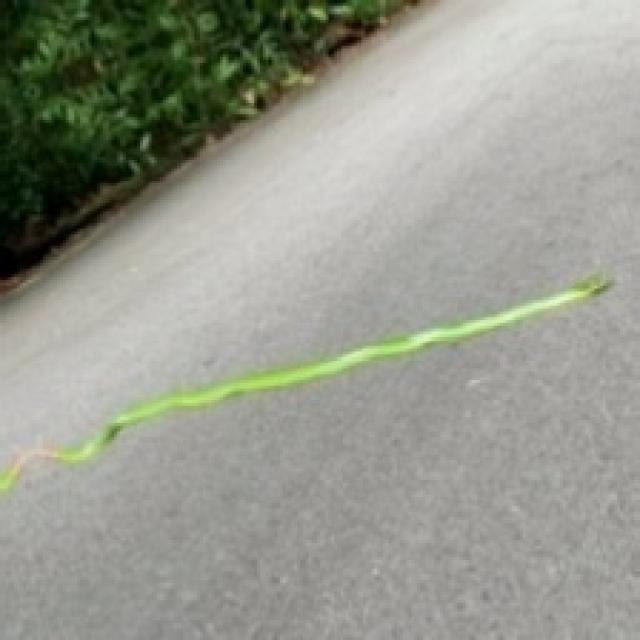red-tailed green ratsnake: (0, 271, 609, 491)
